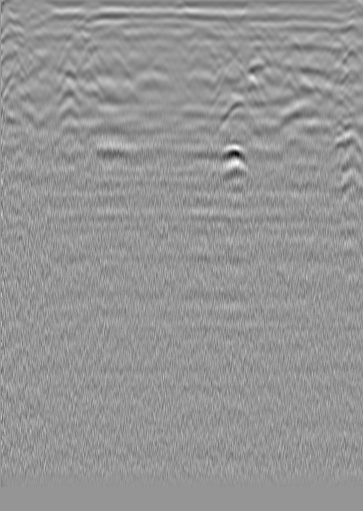가스: (216, 143, 254, 175)
상수: (327, 31, 347, 51)
오수: (41, 33, 77, 60)
우수: (168, 33, 188, 53)
